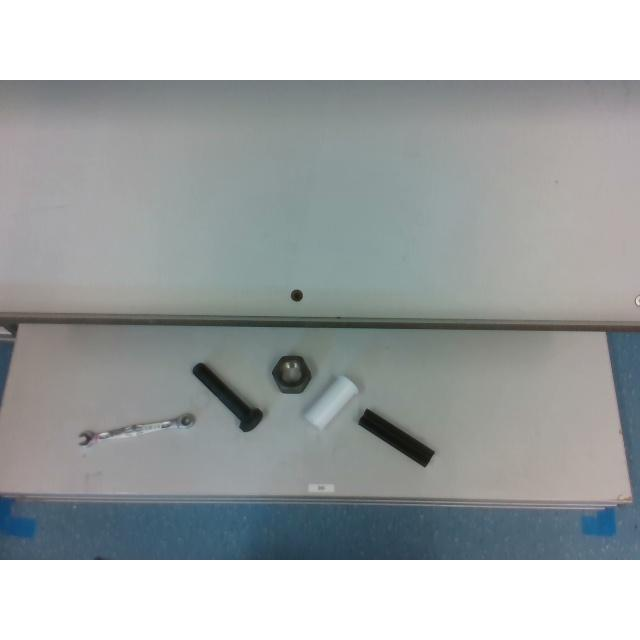F20_20_B: (358, 409, 434, 466)
M20_100: (192, 363, 262, 431)
M30: (274, 355, 310, 393)
Spacer: (304, 375, 356, 429)
Wrench: (78, 413, 194, 445)
